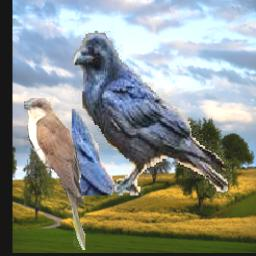Crow: (72, 31, 232, 195)
Cuckoo: (23, 99, 85, 251)
